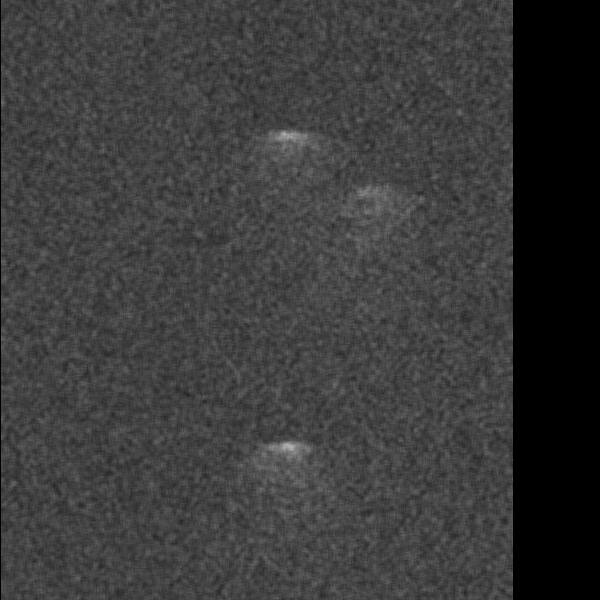spark: (358, 186, 404, 224), (142, 503, 156, 525)
